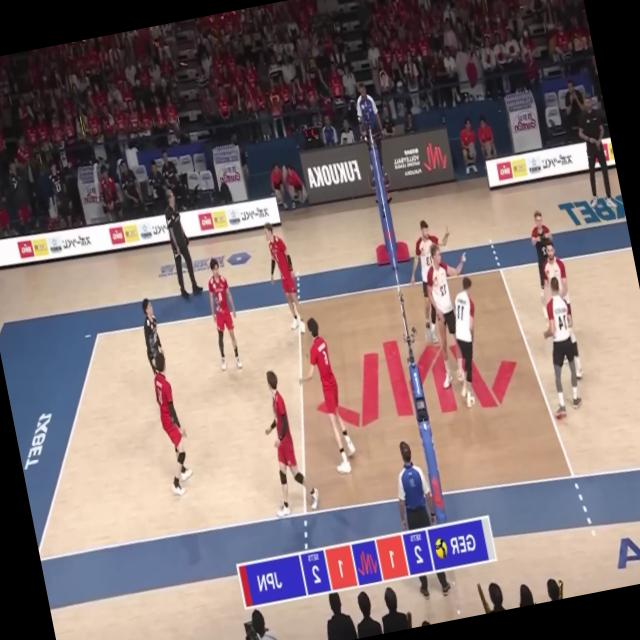referee: (386, 436, 452, 601)
team_one: (415, 238, 491, 390), (400, 215, 471, 344), (529, 276, 592, 421), (440, 274, 498, 408), (527, 210, 562, 286), (536, 240, 572, 298)
team_two: (287, 313, 360, 480), (250, 362, 322, 518), (147, 350, 198, 497), (200, 255, 248, 373), (260, 219, 307, 339), (136, 294, 170, 386)
